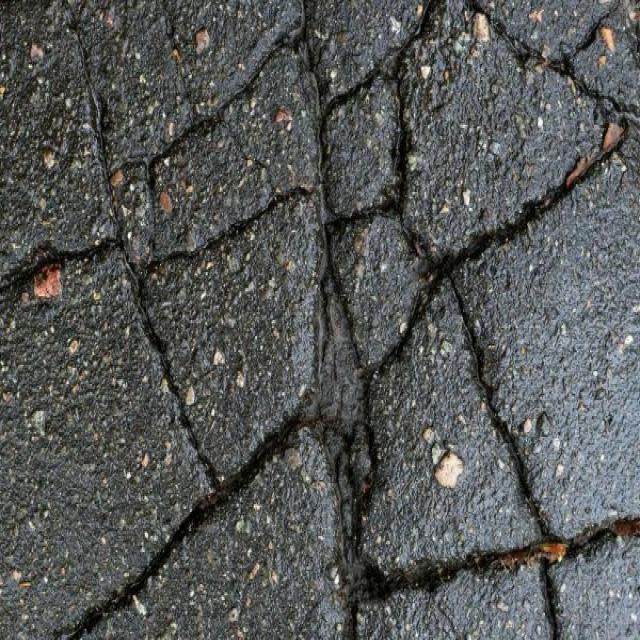Pothole: (69, 77, 608, 635)
